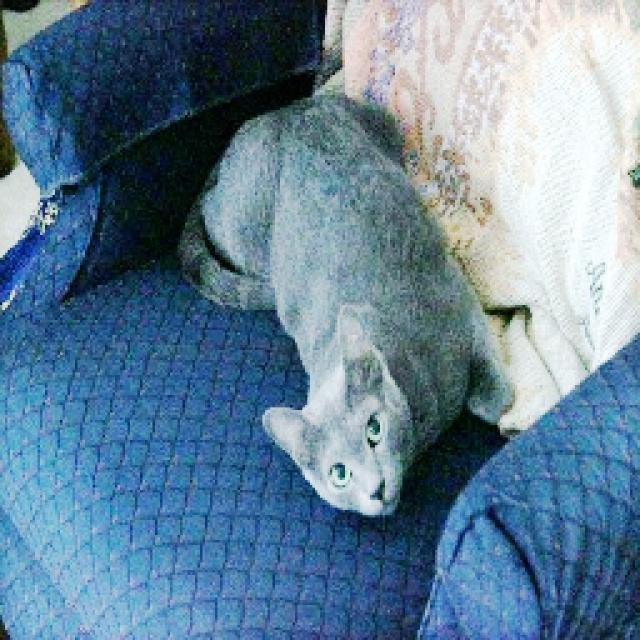cat: (172, 80, 530, 548)
